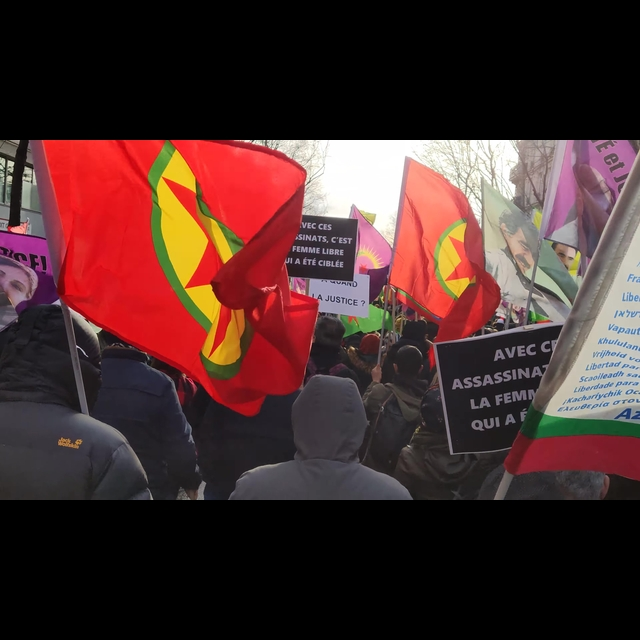PKK: (24, 139, 315, 416), (379, 146, 504, 365)
